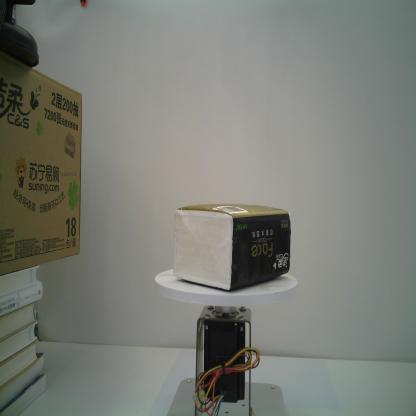Tissue: (171, 200, 291, 292)
